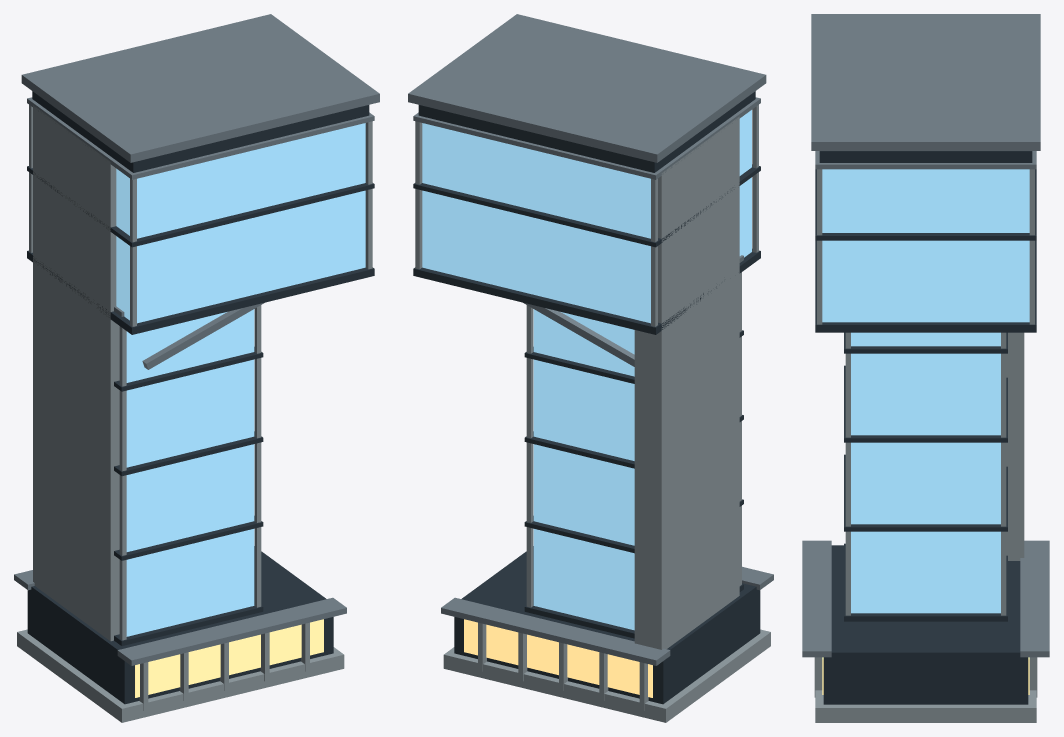
File: vrx_city_exchange_a_LOD1.fbx
3 renders of one model, left to right at view 1: azimuth 30°, elevation 25°; view 2: azimuth 150°, elevation 25°; view 3: azimuth 270°, elevation 25°, orthographic. The views are drawn at different scales.
Parts seen in each view (by area): view 1: vrx_city_exchange_a_LOD1; view 2: vrx_city_exchange_a_LOD1; view 3: vrx_city_exchange_a_LOD1.
Part boxes in pixels (x1=…): vrx_city_exchange_a_LOD1: x1=14, y1=14, x2=379, y2=722; vrx_city_exchange_a_LOD1: x1=408, y1=14, x2=773, y2=722; vrx_city_exchange_a_LOD1: x1=802, y1=14, x2=1049, y2=722.
Size of the model in its own units: 38 by 80.6 by 30.2.
